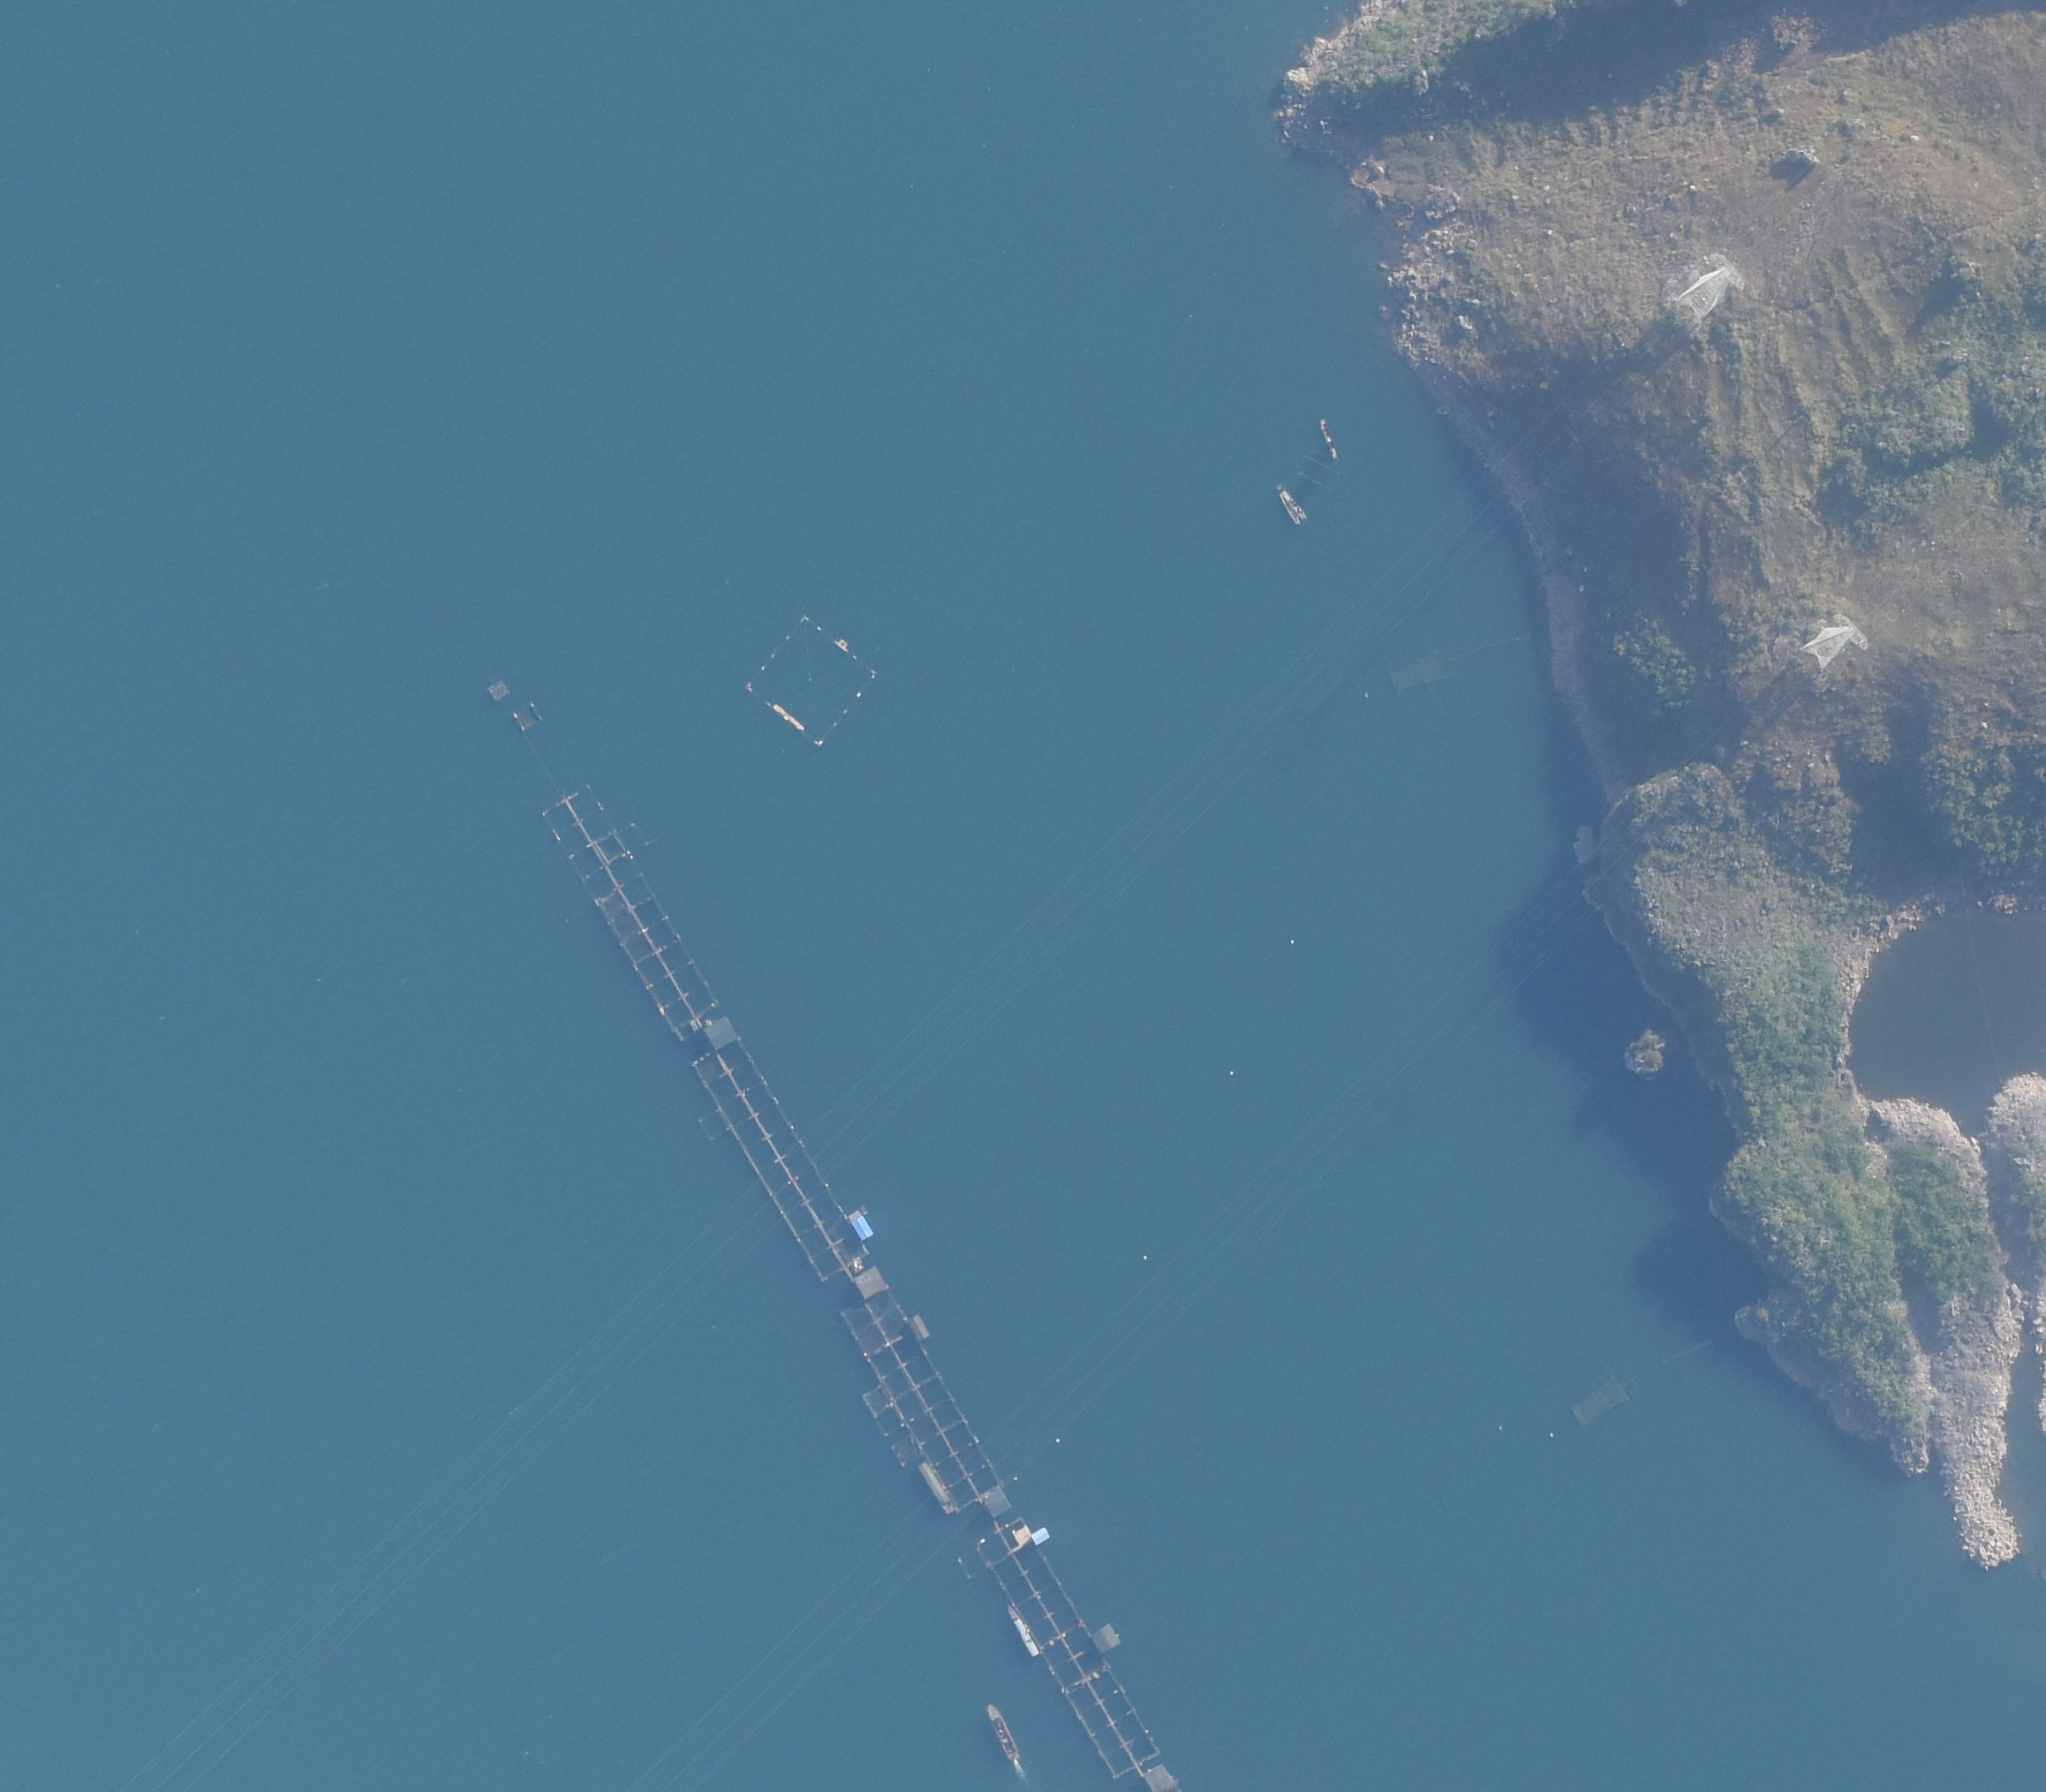cable-tower: (1669, 261, 1736, 321), (1810, 614, 1868, 675)
cultivation-mesh-cage: (545, 784, 871, 1279), (977, 1515, 1159, 1783), (843, 1289, 998, 1513), (740, 615, 876, 745), (1559, 1376, 1642, 1430), (1378, 650, 1458, 698), (510, 703, 545, 739)
pool: (1801, 881, 2046, 1111)
prefabricated-house: (705, 1013, 737, 1048), (855, 1265, 887, 1300), (1091, 1622, 1122, 1654), (1144, 1764, 1175, 1792), (985, 1489, 1013, 1519), (849, 1209, 873, 1241), (910, 1312, 930, 1340), (1011, 1524, 1030, 1546), (1031, 1525, 1049, 1546)
ship: (919, 1462, 955, 1514), (987, 1704, 1019, 1762), (1006, 1604, 1038, 1658), (1277, 485, 1308, 525), (1321, 417, 1339, 462)
